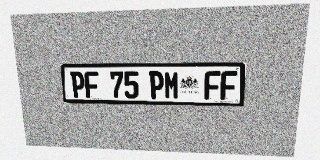5: (124, 71, 139, 99)
7: (109, 71, 124, 99)
F: (204, 71, 221, 100), (220, 71, 237, 100), (84, 71, 99, 98)
M: (164, 71, 179, 99)
P: (149, 71, 164, 99), (70, 71, 85, 98)
